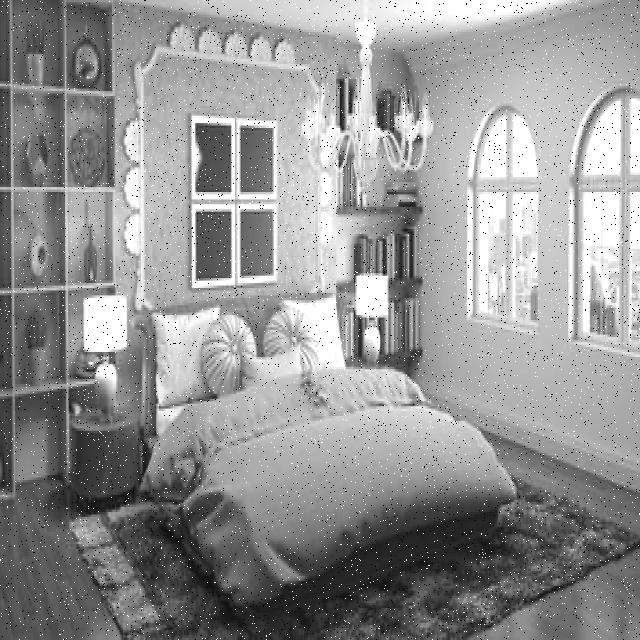bed: (150, 294, 499, 584)
